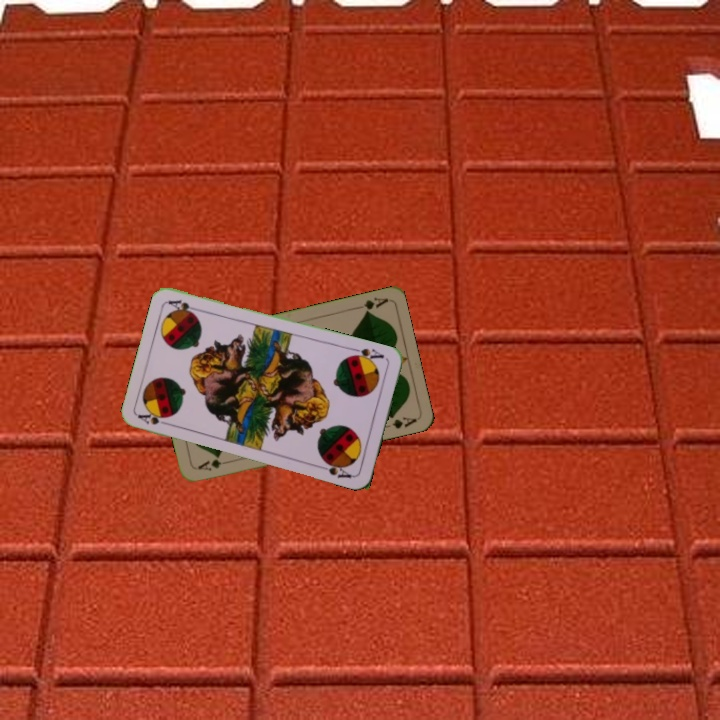GA: (350, 293, 390, 316), (194, 454, 224, 474)
SA: (346, 344, 387, 365), (134, 408, 174, 428)
